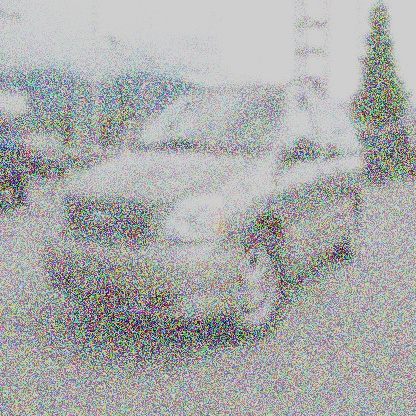Vehicle: (39, 85, 365, 338)
